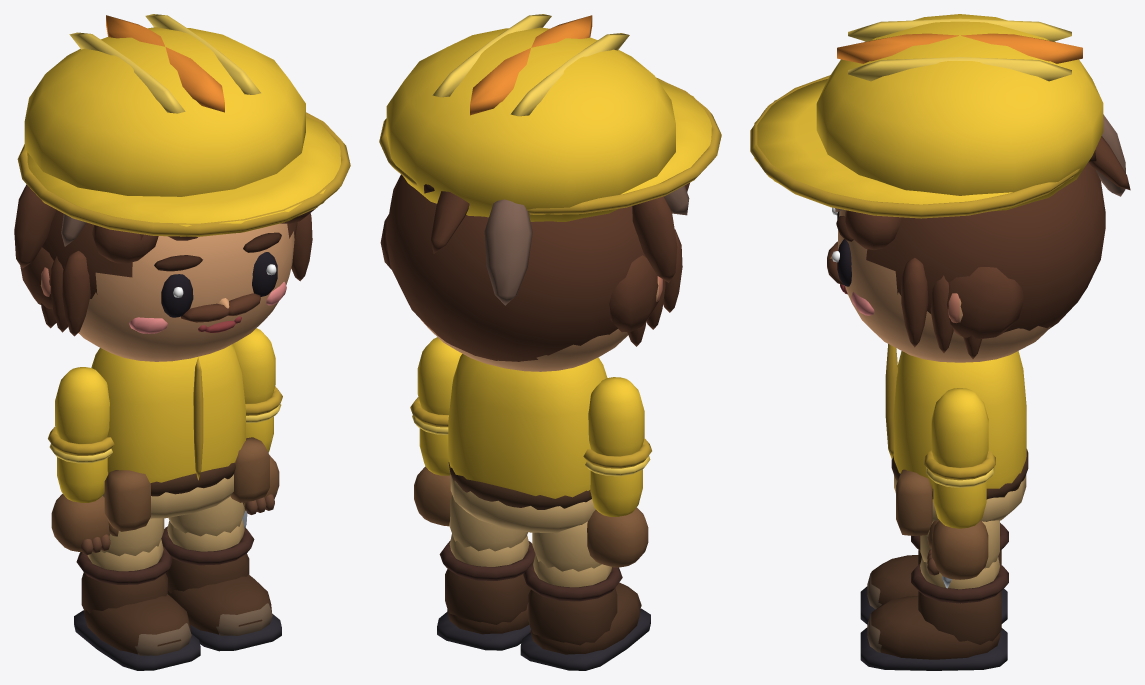
The model's file is wren.glb.
3 renders of one model, left to right at view 1: azimuth 30°, elevation 25°; view 2: azimuth 150°, elevation 25°; view 3: azimuth 270°, elevation 25°, orthographic. The views are drawn at different scales.
Visible parts, largest first — view 1: hat, torso, head, hair, shin_r, shin_l, arm_r, arm_l, leg_l, hand_r, leg_r, eye_r (+2 smaller); view 2: hat, hair, torso, shin_r, shin_l, arm_r, arm_l, leg_r, leg_l, hand_r, head, hand_l; view 3: hat, hair, torso, shin_l, arm_l, head, hand_l, shin_r, leg_l, eye_l.
Part boxes in pixels (x1,y1,x2,y2): hat: (17, 14, 350, 236); torso: (91, 344, 269, 531); head: (40, 223, 294, 361); hair: (14, 184, 317, 336); shin_r: (74, 546, 200, 670); shin_l: (161, 526, 281, 651); arm_r: (48, 367, 114, 502); arm_l: (232, 328, 282, 452); leg_l: (167, 496, 245, 551); hand_r: (51, 494, 118, 555); leg_r: (87, 518, 164, 571); eye_r: (161, 274, 193, 317); hat: (379, 14, 721, 221); hair: (380, 174, 689, 361); torso: (448, 354, 607, 533); shin_r: (520, 561, 650, 670); shin_l: (437, 541, 535, 650); arm_r: (583, 377, 651, 516); arm_l: (410, 337, 462, 475); leg_r: (532, 521, 611, 587); leg_l: (449, 495, 529, 566); hand_r: (587, 507, 648, 567); head: (420, 276, 662, 371); hand_l: (414, 466, 452, 526); hat: (750, 14, 1103, 218); hair: (827, 114, 1130, 358); torso: (885, 344, 1028, 588); shin_l: (860, 563, 1008, 670); arm_l: (924, 388, 995, 528); head: (830, 210, 1050, 362); hand_l: (927, 519, 988, 579); shin_r: (860, 523, 1008, 624); leg_l: (920, 520, 999, 589); eye_l: (832, 239, 851, 286).
Size of the model in its own units: 0.5376 by 1.02 by 0.588.
1 material, 1 textured.
